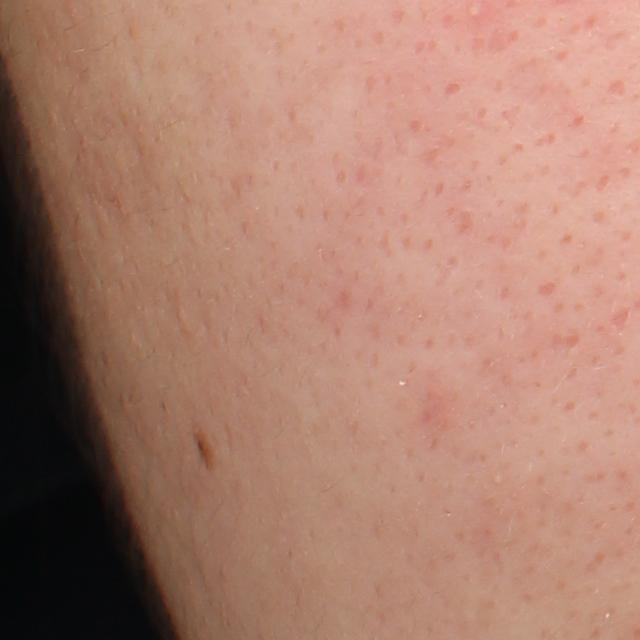atrophic_scar: (607, 305, 630, 337), (550, 335, 584, 355)
nevus: (193, 426, 217, 472)
